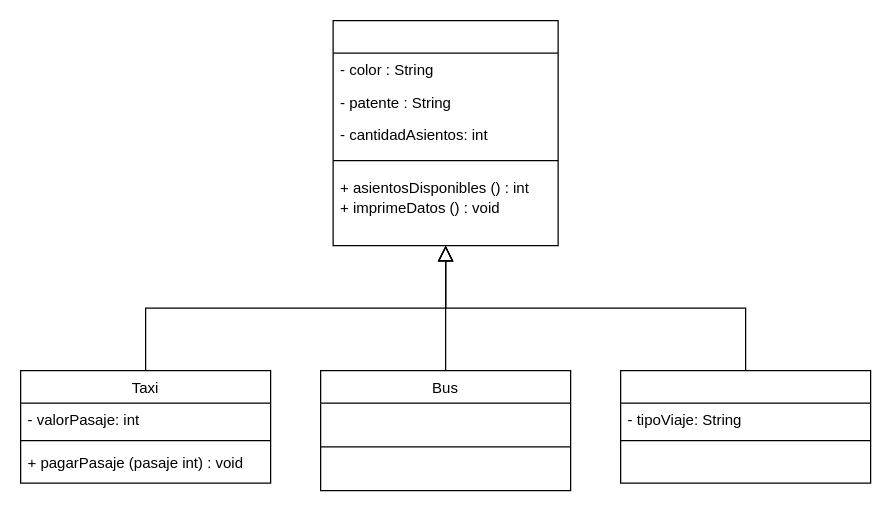
The diagram is 891 pixels wide and 511 high, and some of its shapes have lost their labels. The shapes that lost their labels are listed below. From the top down, each one's box as (x1, y1, x2, y2) in pixels, then its label:
(332, 19, 558, 246): Vehiculos
(619, 369, 871, 483): MiniBus
